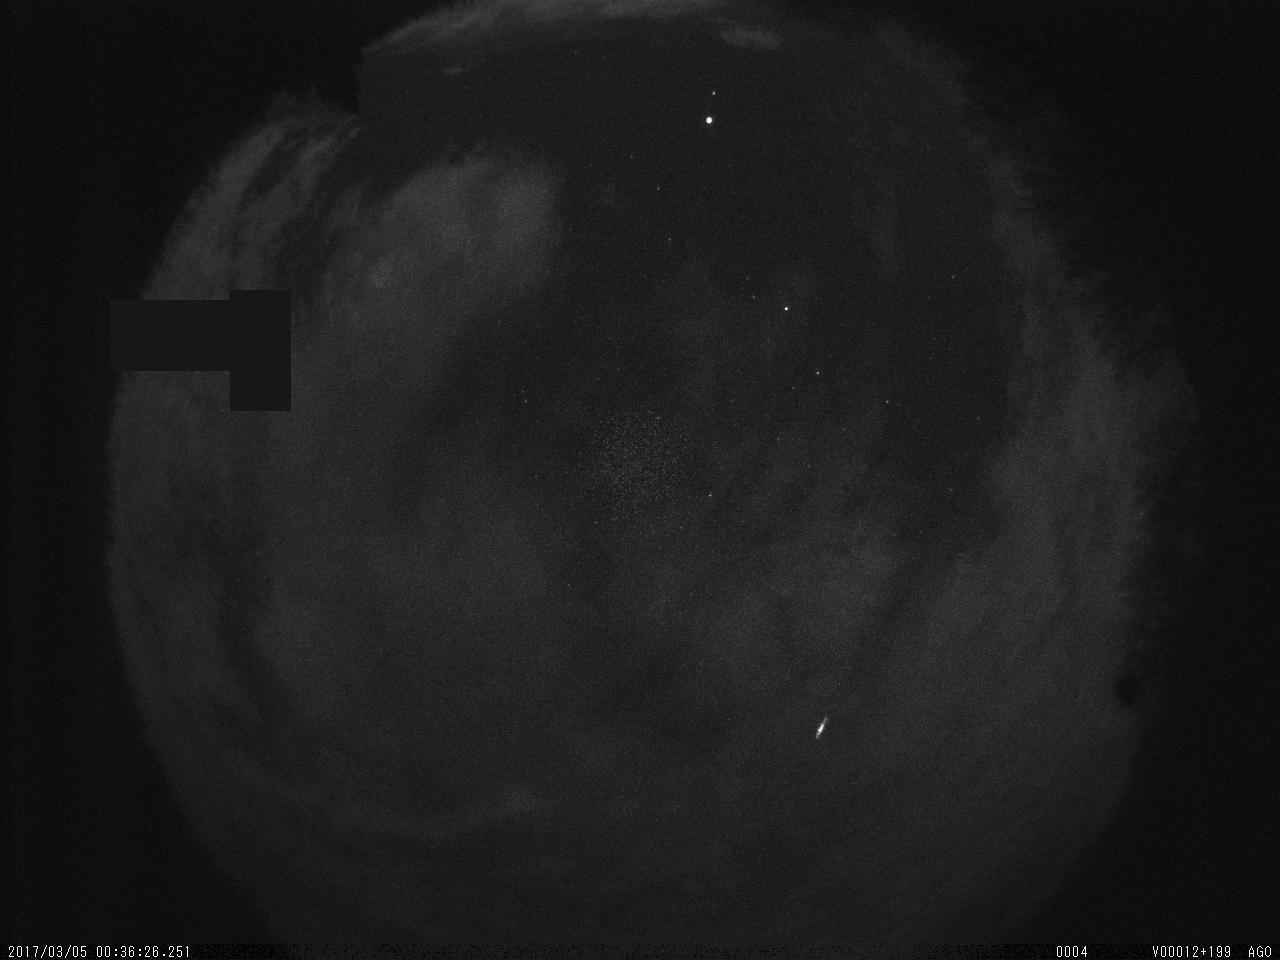meteor: (811, 711, 840, 746)
